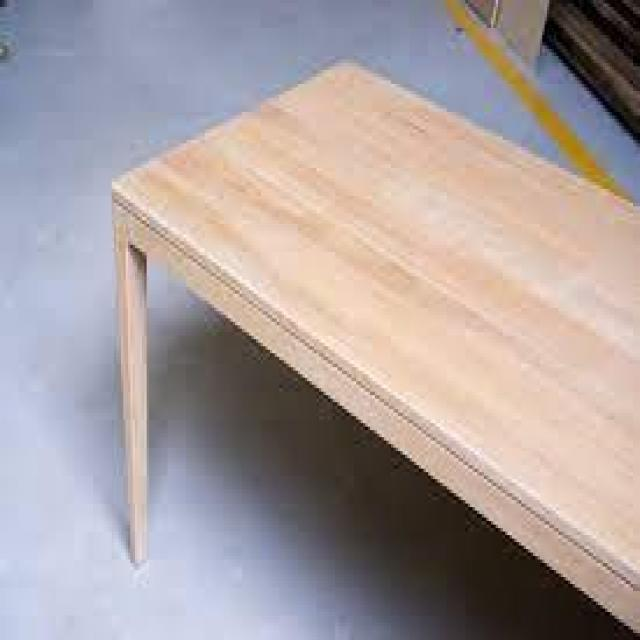table: (92, 44, 634, 624)
